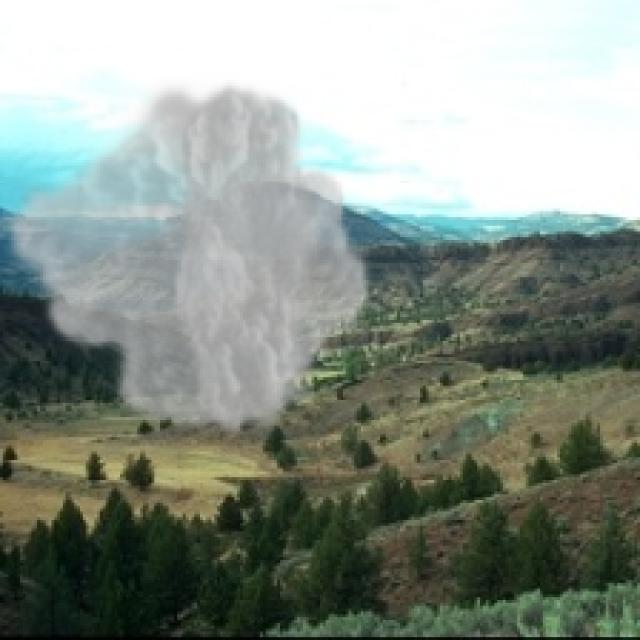smoke: (0, 74, 375, 443)
